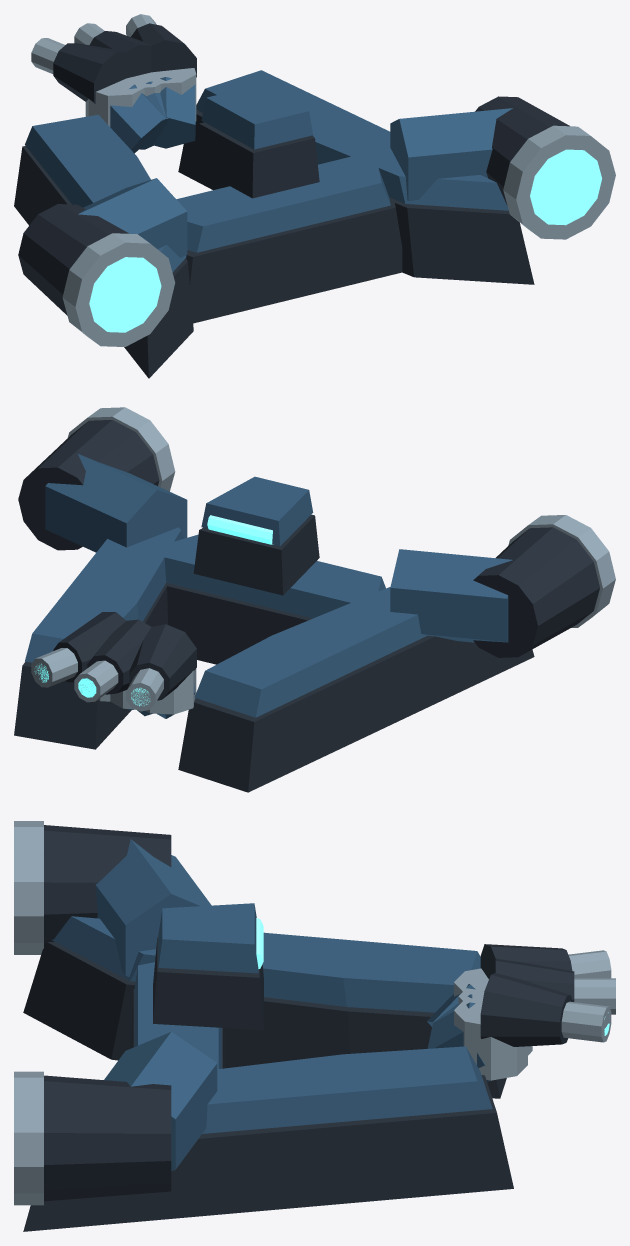
The model's file is c4_ufofast.glb.
3 renders of one model, top to bottom at view 1: azimuth 30°, elevation 25°; view 2: azimuth 150°, elevation 25°; view 3: azimuth 270°, elevation 25°, orthographic. The views are drawn at different scales.
Parts seen in each view (by area): view 1: ufofast / Chassis, ufofast / Armor, ufofast / Titanium, ufofast / Energy; view 2: ufofast / Chassis, ufofast / Armor, ufofast / Titanium, ufofast / Energy; view 3: ufofast / Chassis, ufofast / Armor, ufofast / Titanium.
Part boxes in pixels (box(x1,y1,x2,y2)): ufofast / Chassis: box(14, 23, 569, 378); ufofast / Armor: box(25, 70, 512, 272); ufofast / Titanium: box(31, 14, 615, 346); ufofast / Energy: box(89, 149, 601, 332); ufofast / Chassis: box(14, 420, 599, 792); ufofast / Armor: box(25, 454, 512, 718); ufofast / Titanium: box(31, 407, 615, 714); ufofast / Energy: box(34, 515, 273, 706); ufofast / Chassis: box(23, 825, 574, 1231); ufofast / Armor: box(52, 839, 492, 1171); ufofast / Titanium: box(14, 821, 615, 1205).
Bounding box in the file's own units: 1.57 × 0.473 × 1.3.
